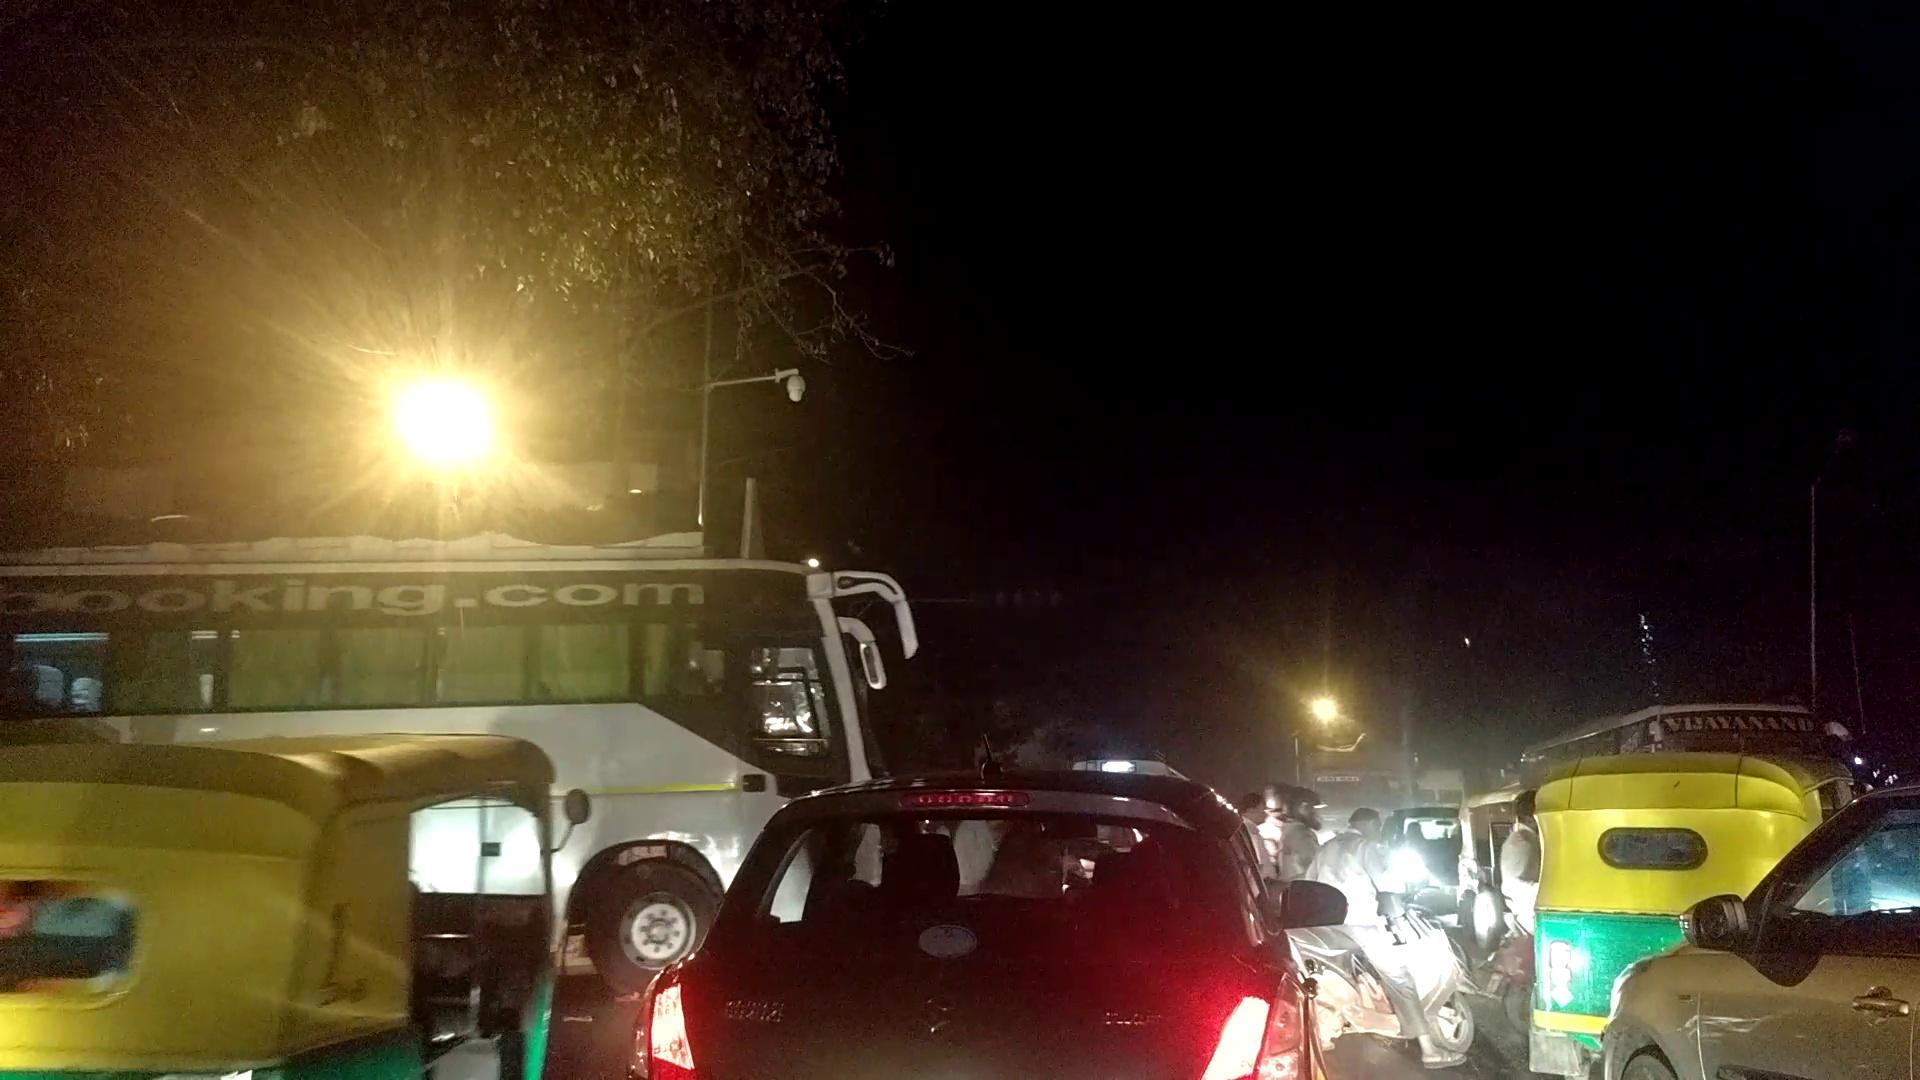on: (280, 222, 583, 651)
